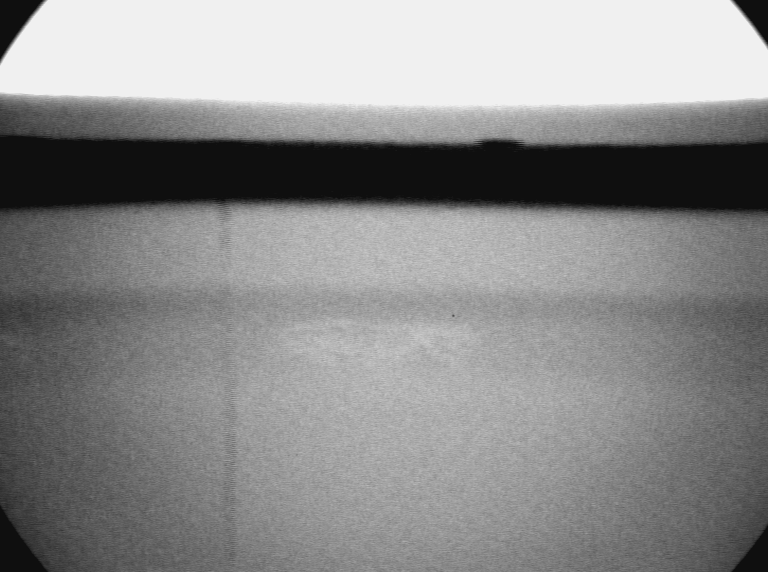defect: (3, 319, 29, 355)
